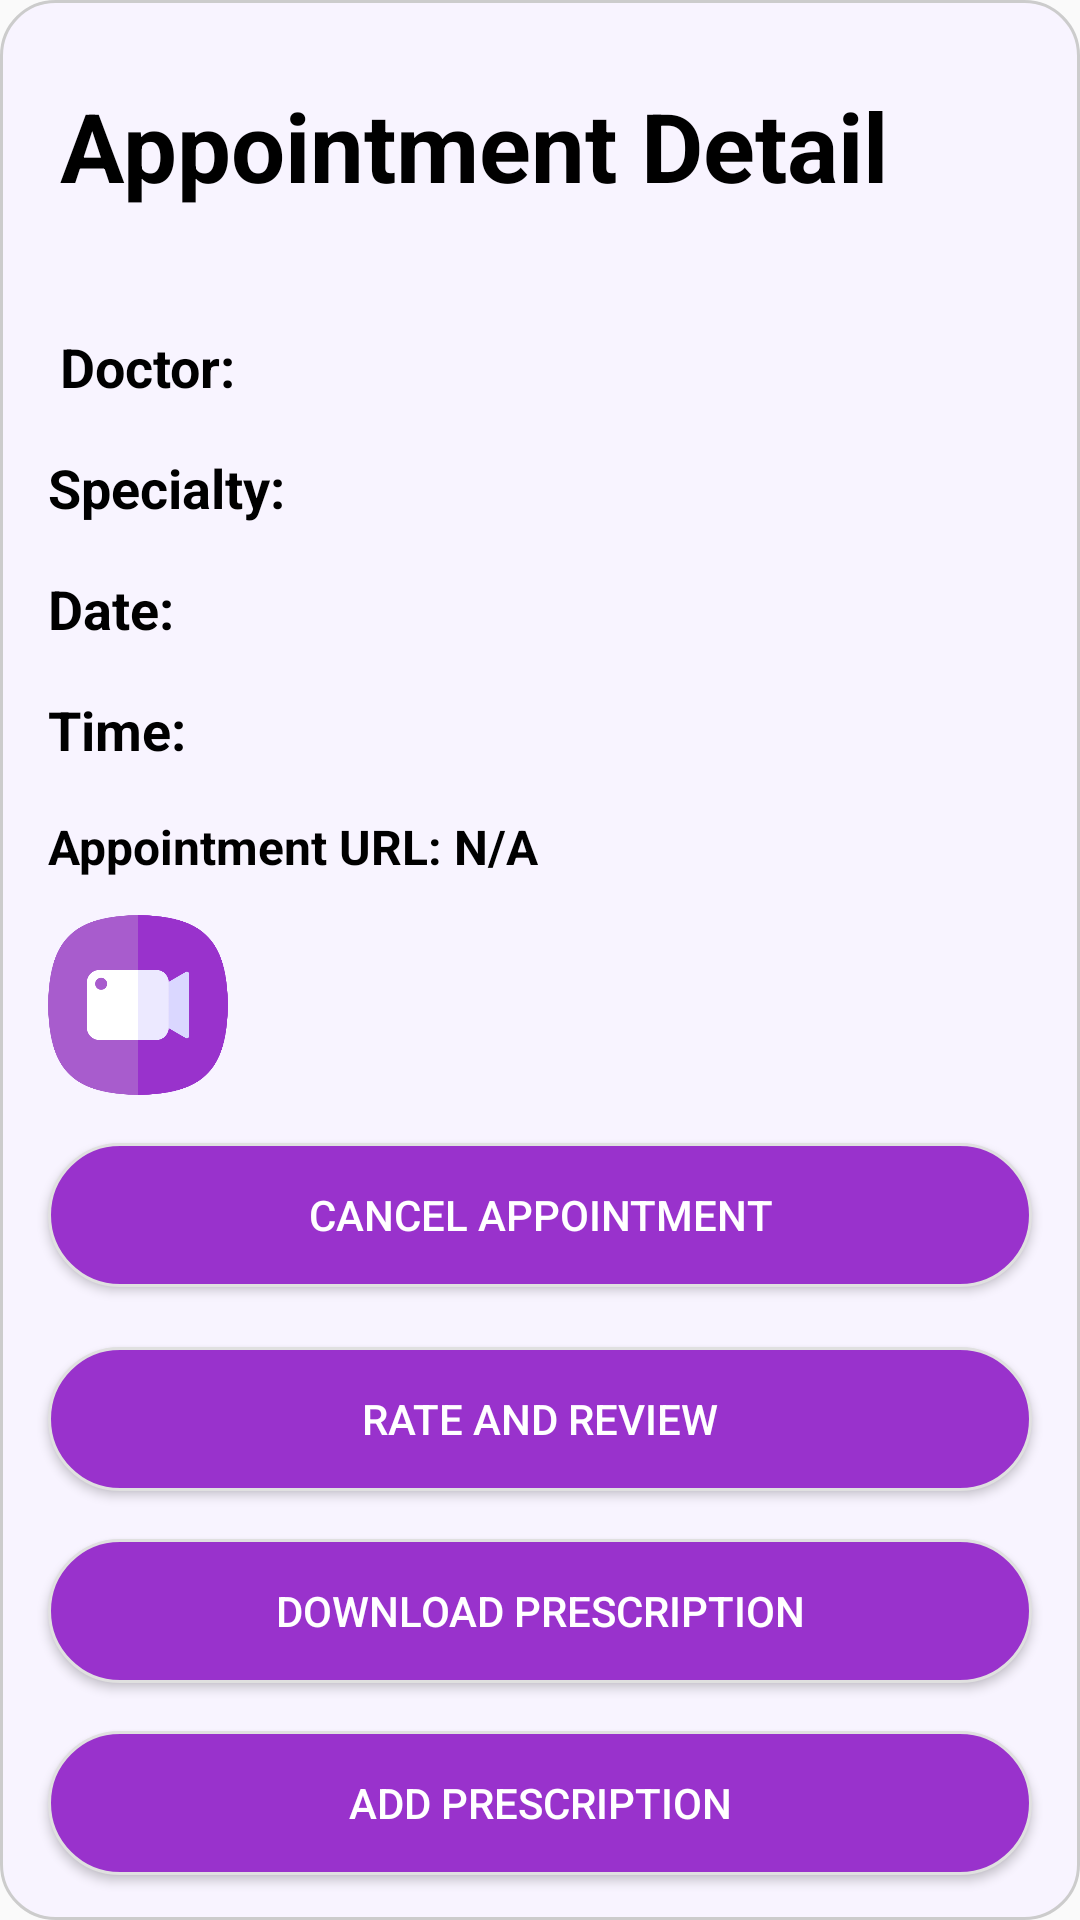

Screen size 1080×1920. Icon name, then its box in pixels as (x1,y1,x2,y2):
videocalling: (48,915,228,1095)
